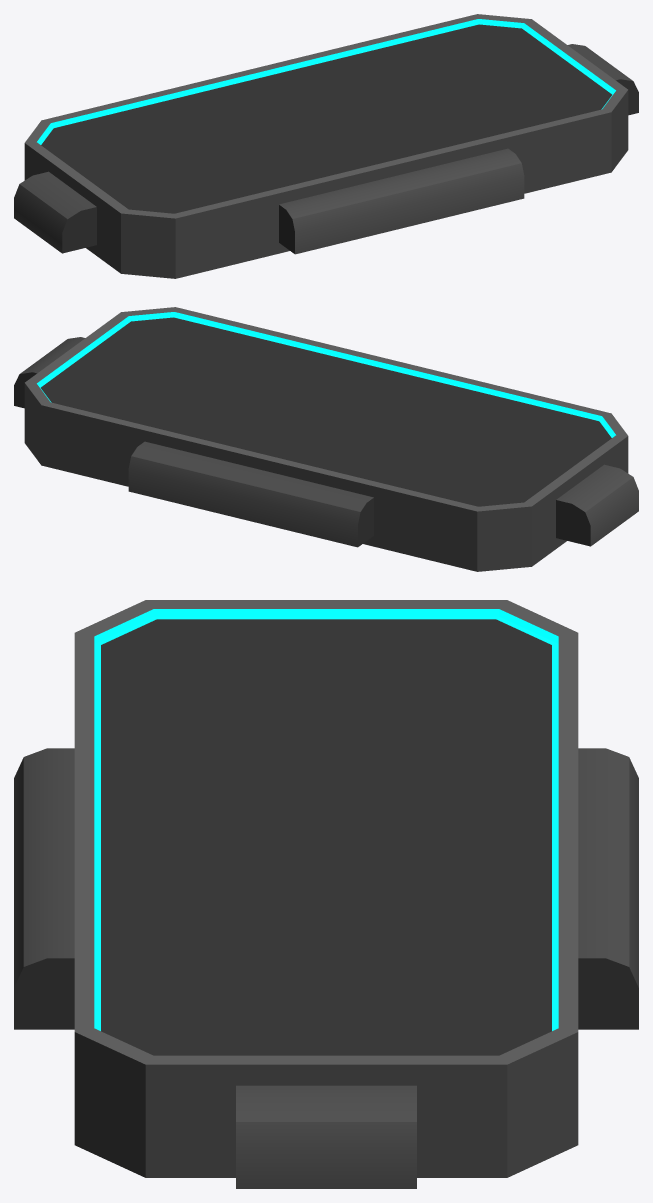
The model's file is SM_Platform_A.fbx.
3 views of the same model, one above another, from view 1: azimuth 30°, elevation 25°; view 2: azimuth 150°, elevation 25°; view 3: azimuth 270°, elevation 25° (orthographic). The views are drawn at different scales.
Visible parts, largest first — view 1: SM_Platform_A; view 2: SM_Platform_A; view 3: SM_Platform_A.
Boxes of the visible parts, <box> form: SM_Platform_A: <box>14,14,638,278</box>; SM_Platform_A: <box>14,307,638,571</box>; SM_Platform_A: <box>14,600,638,1188</box>.
Bounding box in the file's own units: 200 × 20 × 100.
